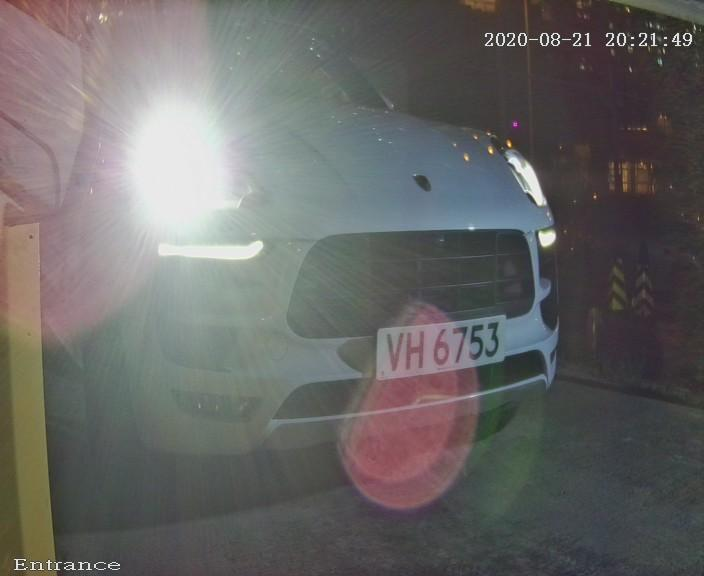License Plate: (365, 301, 522, 397)
